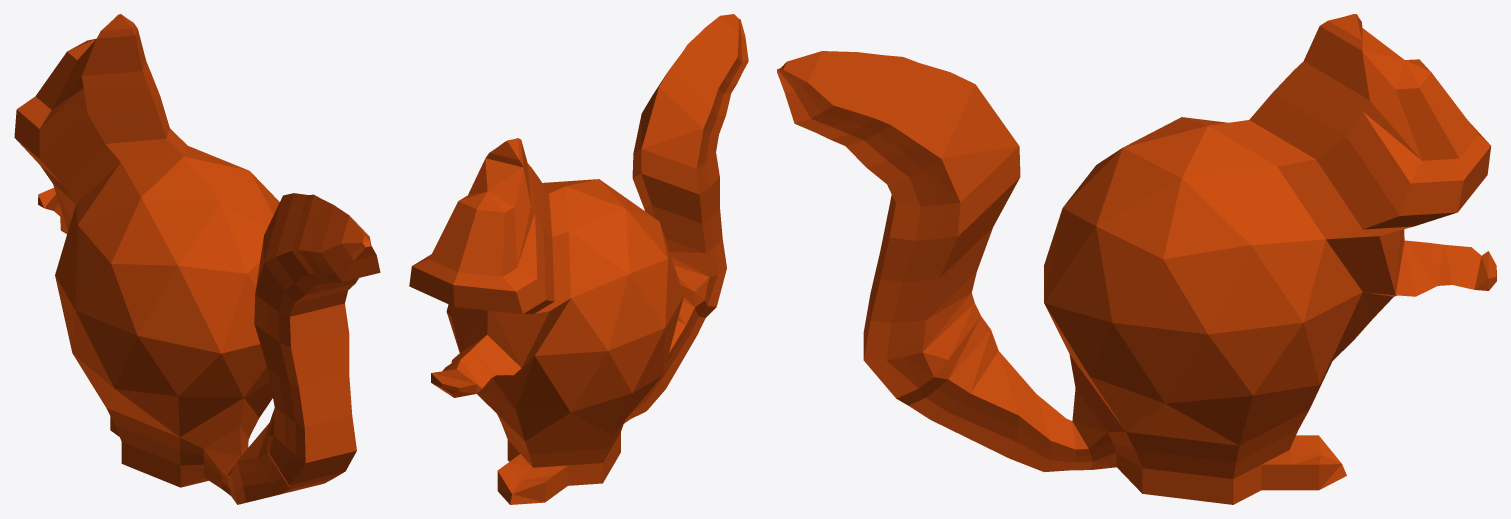
File: player.obj
3 renders of one model, left to right at view 1: azimuth 30°, elevation 25°; view 2: azimuth 150°, elevation 25°; view 3: azimuth 270°, elevation 25°, orthographic. The views are drawn at different scales.
Visible parts, largest first — view 1: Squirrel_Icosphere; view 2: Squirrel_Icosphere; view 3: Squirrel_Icosphere.
Boxes of the visible parts, x1=… form: Squirrel_Icosphere: x1=14, y1=14, x2=380, y2=504; Squirrel_Icosphere: x1=409, y1=14, x2=748, y2=504; Squirrel_Icosphere: x1=777, y1=14, x2=1496, y2=504.
Bounding box in the file's own units: 0.7131 × 1.25 × 1.77.
